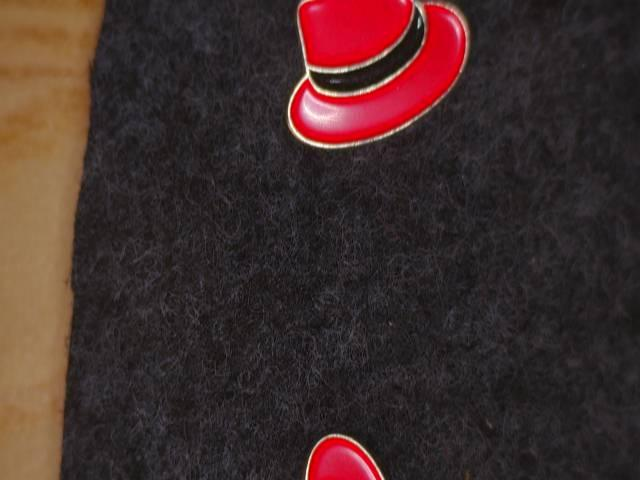Red-Hat: (271, 0, 483, 179)
